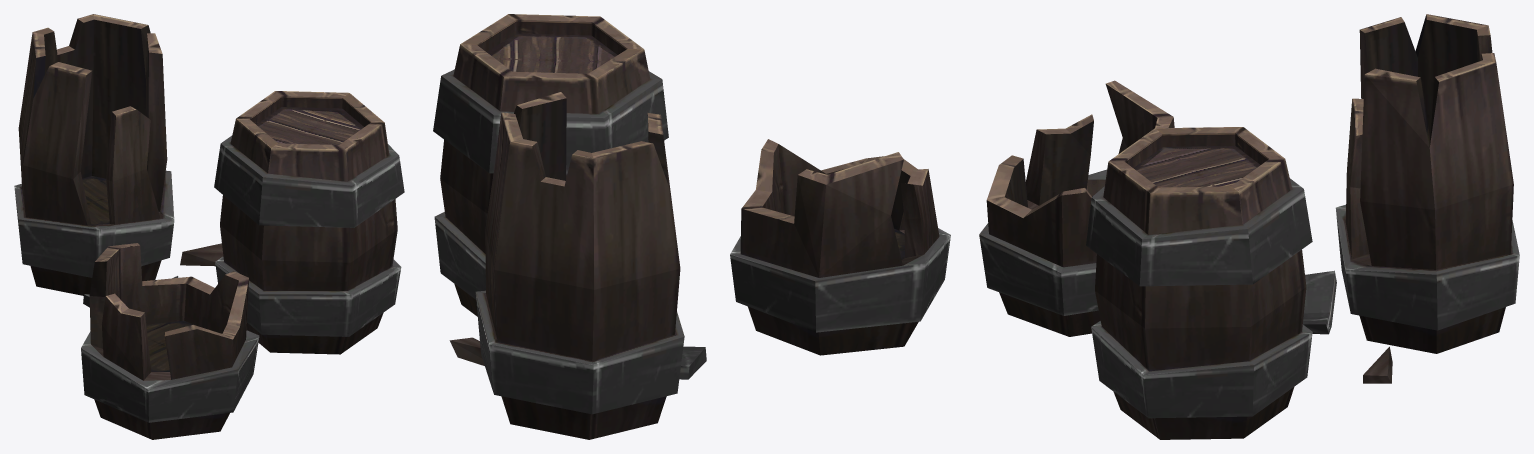
Rendered from JiuTong.fbx.
3 renders of one model, left to right at view 1: azimuth 30°, elevation 25°; view 2: azimuth 150°, elevation 25°; view 3: azimuth 270°, elevation 25°, orthographic. The views are drawn at different scales.
Visible parts, largest first — view 1: JiuTong; view 2: JiuTong; view 3: JiuTong.
Part boxes in pixels (x1=…): JiuTong: x1=14, y1=14, x2=404, y2=439; JiuTong: x1=433, y1=14, x2=950, y2=439; JiuTong: x1=979, y1=14, x2=1519, y2=439.
Size of the model in its own units: 207 by 145 by 240.
